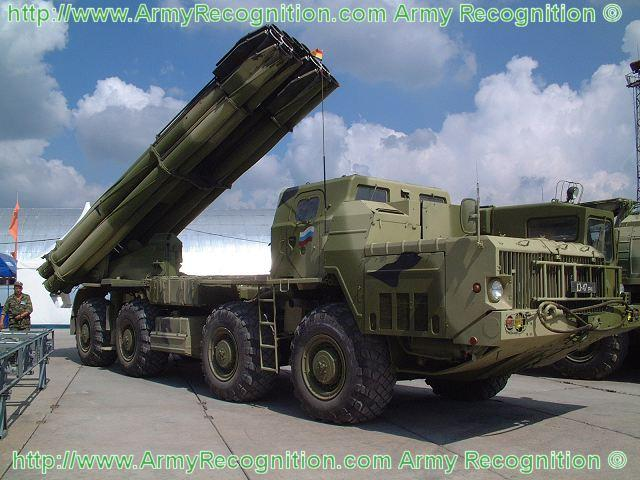MIL_SAM_TEL: (39, 25, 640, 417)
